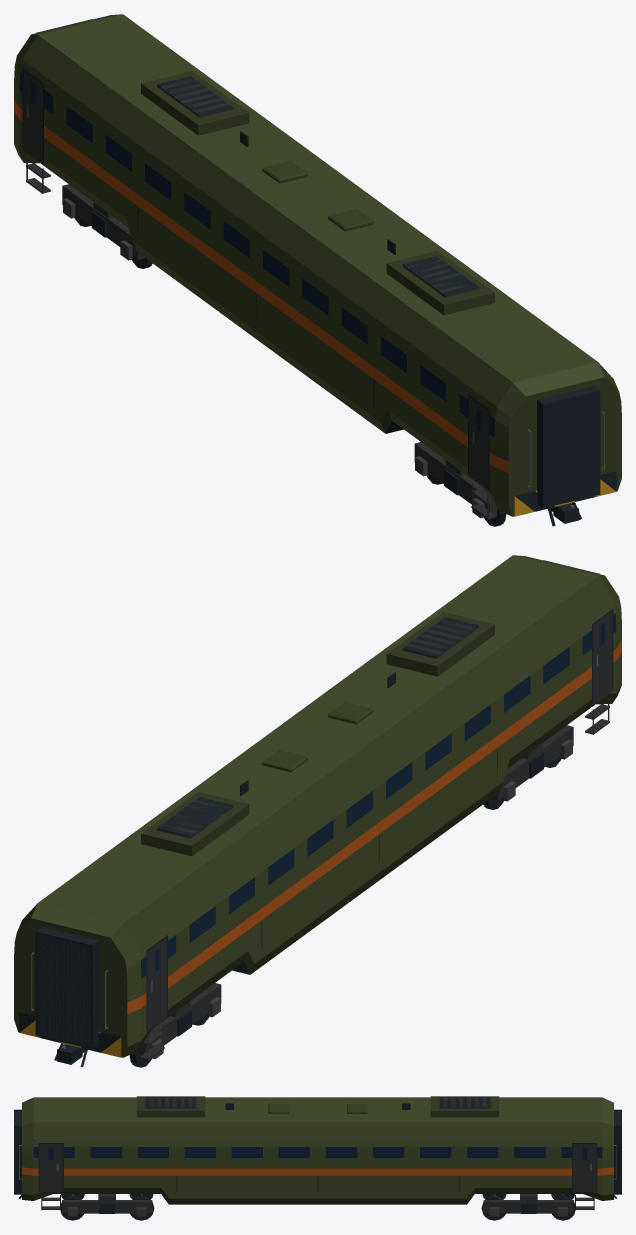
Rendered from coach.glb.
The picture shows the model from 3 angles, top to bottom: view 1: azimuth 30°, elevation 25°; view 2: azimuth 150°, elevation 25°; view 3: azimuth 270°, elevation 25°; orthographic projection. The views are drawn at different scales.
Visible parts, largest first — view 1: coach (×2); view 2: coach (×2); view 3: coach (×2).
Boxes of the visible parts, box(x1,y1,x2,y2) form: coach (×2): box(14, 14, 621, 526); coach (×2): box(14, 555, 621, 1067); coach (×2): box(14, 1096, 621, 1220).
Bounding box in the file's own units: 8.76 × 12.25 × 62.
